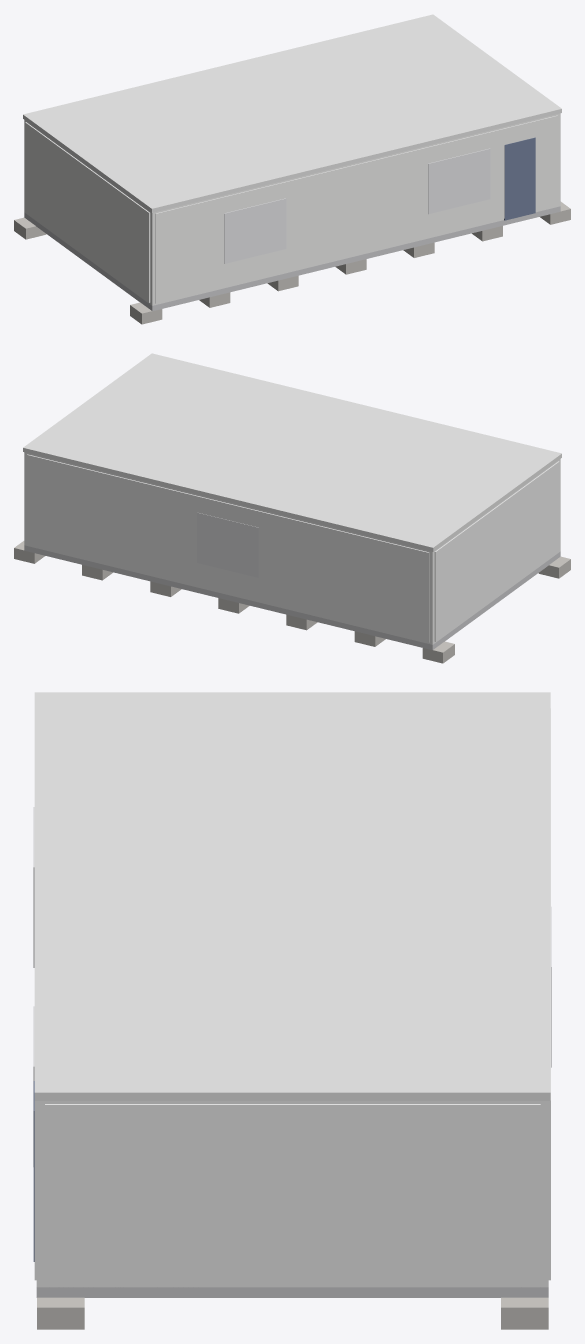
File: Studio-40-Premium+FullSolar-LOD3.glb
The picture shows the model from 3 angles, top to bottom: view 1: azimuth 30°, elevation 25°; view 2: azimuth 150°, elevation 25°; view 3: azimuth 270°, elevation 25°; orthographic projection. The views are drawn at different scales.
Visible parts, largest first — view 1: RoofMain, ExteriorPanelsPremium, WindowsLargeUpgrade, BaseFrame, ExteriorShell, FoundationBlocks, EntryDoor; view 2: RoofMain, ExteriorPanelsPremium, BaseFrame, WindowsLargeUpgrade, ExteriorShell, FoundationBlocks; view 3: RoofMain, ExteriorPanelsPremium, ExteriorShell, BaseFrame, FoundationBlocks.
Part boxes in pixels (<box>): RoofMain: <box>23,14,561,212</box>; ExteriorPanelsPremium: <box>25,115,557,303</box>; WindowsLargeUpgrade: <box>224,148,490,263</box>; BaseFrame: <box>24,206,560,311</box>; ExteriorShell: <box>24,113,560,305</box>; FoundationBlocks: <box>14,201,570,324</box>; EntryDoor: <box>504,137,535,220</box>; RoofMain: <box>23,353,561,551</box>; ExteriorPanelsPremium: <box>27,454,559,642</box>; BaseFrame: <box>24,545,560,650</box>; WindowsLargeUpgrade: <box>197,512,258,577</box>; ExteriorShell: <box>24,452,560,644</box>; FoundationBlocks: <box>14,541,570,663</box>; RoofMain: <box>34,692,550,1100</box>; ExteriorPanelsPremium: <box>34,708,550,1284</box>; ExteriorShell: <box>36,1101,548,1287</box>; BaseFrame: <box>36,1287,548,1297</box>; FoundationBlocks: <box>37,1297,548,1329</box>.
Bounding box in the file's own units: 12.49 × 3.17 × 6.53.
